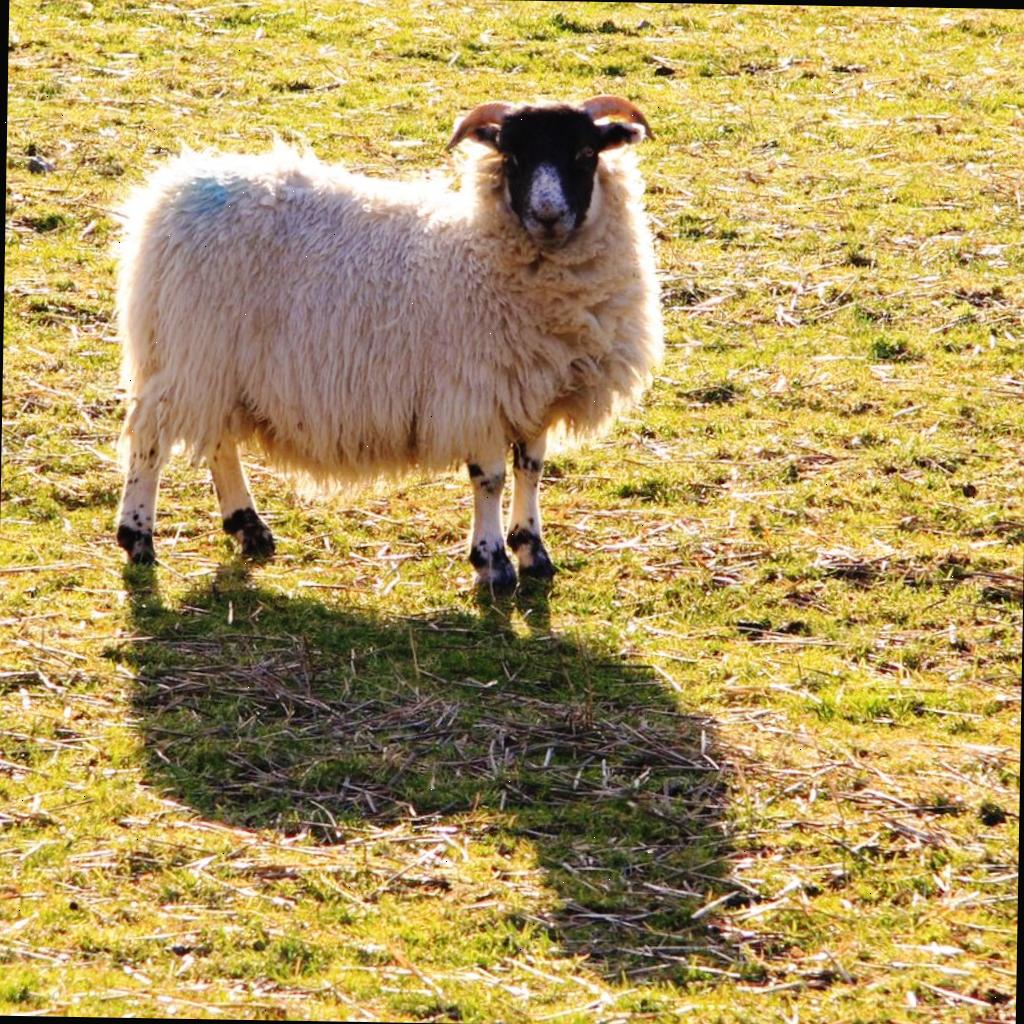Sheep: (108, 86, 662, 596)
